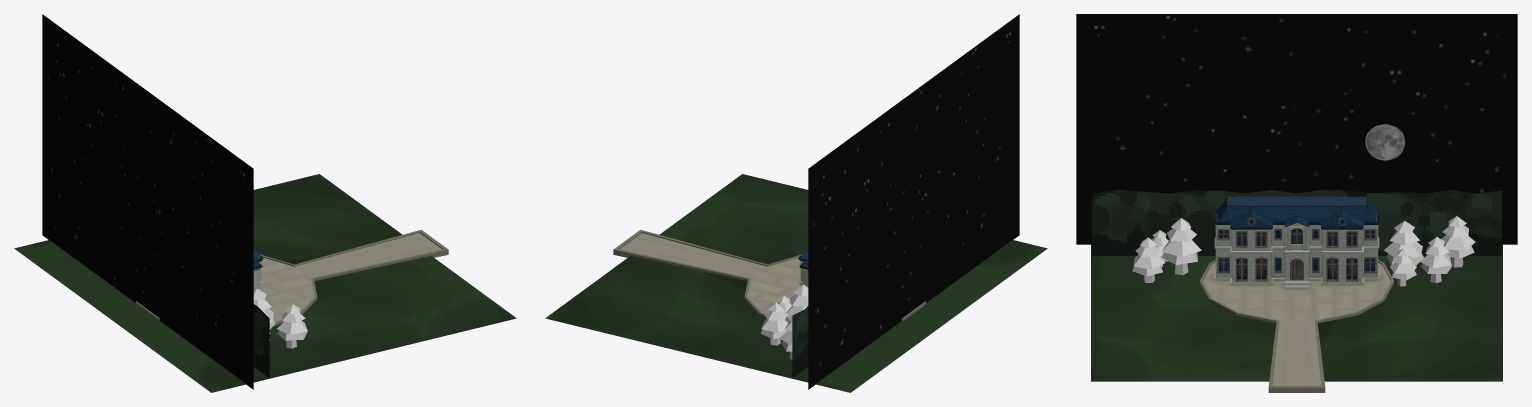
Rendered from title screen.fbx.
3 renders of one model, left to right at view 1: azimuth 30°, elevation 25°; view 2: azimuth 150°, elevation 25°; view 3: azimuth 270°, elevation 25°, orthographic. The views are drawn at different scales.
Parts seen in each view (by area): view 1: Plane.001, Plane.002, Cylinder.008, Plane, Cylinder.010; view 2: Plane.001, Plane.002, Cylinder.008, Plane, Cylinder.006, Cylinder.002; view 3: Plane.001, Plane.002, Cube, Plane, Cylinder.008, Cylinder, Cylinder.001, Cylinder.004, Cylinder.002, Cylinder.010, Cylinder.006, Cylinder.003.
Part boxes in pixels (x1=…): Plane.001: x1=42, y1=14, x2=253, y2=389; Plane.002: x1=14, y1=174, x2=516, y2=392; Cylinder.008: x1=136, y1=229, x2=448, y2=326; Plane: x1=253, y1=304, x2=269, y2=378; Cylinder.010: x1=277, y1=304, x2=307, y2=348; Plane.001: x1=808, y1=14, x2=1019, y2=389; Plane.002: x1=545, y1=174, x2=1047, y2=392; Cylinder.008: x1=613, y1=229, x2=925, y2=320; Plane: x1=792, y1=306, x2=808, y2=378; Cylinder.006: x1=760, y1=302, x2=787, y2=345; Cylinder.002: x1=785, y1=284, x2=808, y2=322; Plane.001: x1=1076, y1=14, x2=1517, y2=244; Plane.002: x1=1091, y1=244, x2=1502, y2=381; Cube: x1=1214, y1=196, x2=1379, y2=288; Plane: x1=1092, y1=190, x2=1501, y2=255; Cylinder.008: x1=1199, y1=260, x2=1394, y2=392; Cylinder: x1=1361, y1=120, x2=1408, y2=163; Cylinder.001: x1=1162, y1=218, x2=1201, y2=274; Cylinder.004: x1=1441, y1=216, x2=1475, y2=267; Cylinder.002: x1=1384, y1=221, x2=1423, y2=265; Cylinder.010: x1=1132, y1=237, x2=1165, y2=282; Cylinder.006: x1=1420, y1=237, x2=1451, y2=282; Cylinder.003: x1=1390, y1=248, x2=1416, y2=286.
Bounding box in the file's own units: 1835 × 1215 × 2086.
